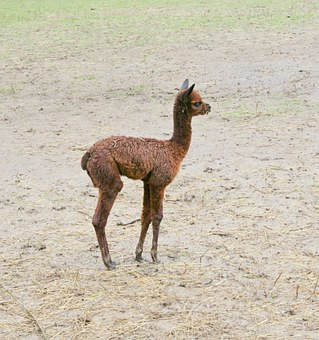alpaca: (79, 77, 211, 272)
